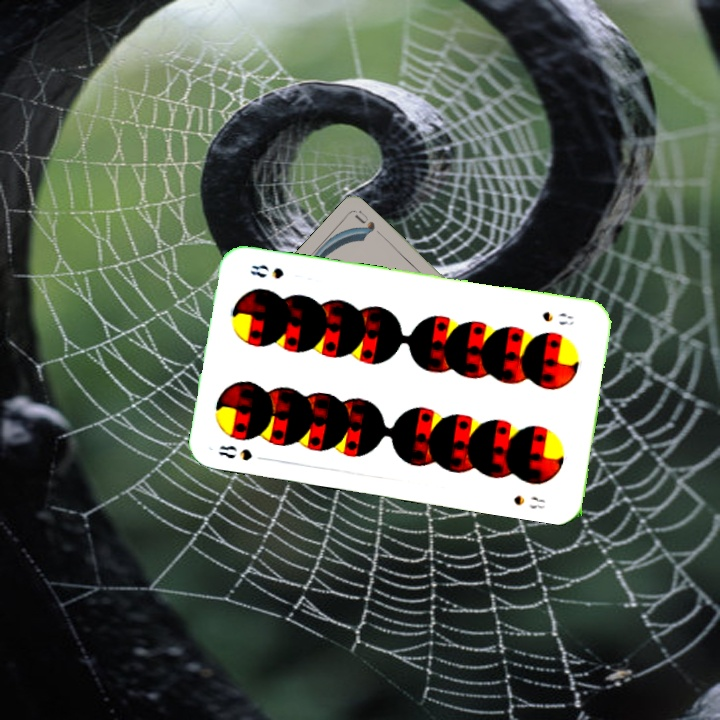S8: (215, 441, 255, 463), (538, 307, 576, 329)
